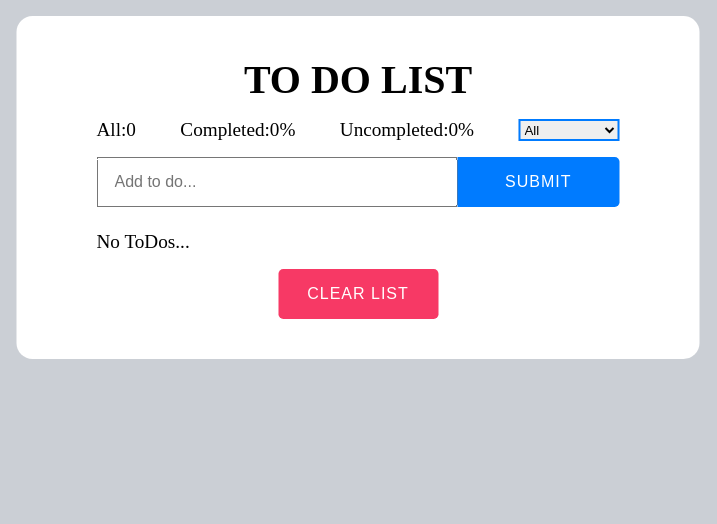
Test case: to-do list › adds to-dos
In the field with placeholder "Add to do...": (277, 182) [96,157,457,207], type "to-do item 1"
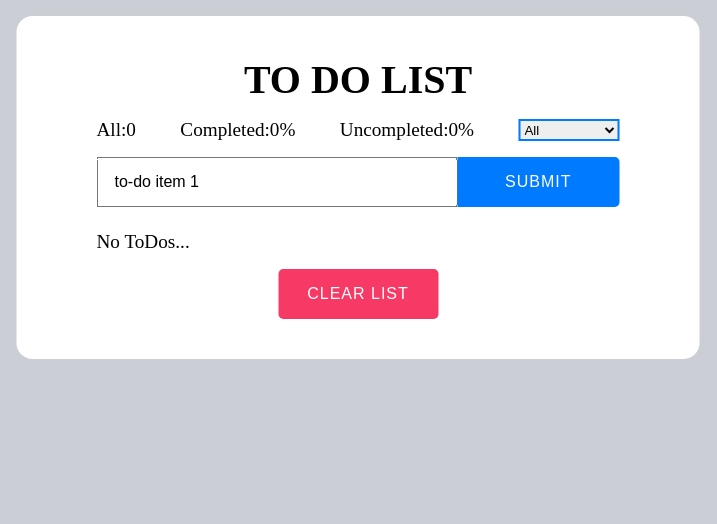
Click the button "submit": (538, 182) [457,157,620,207]
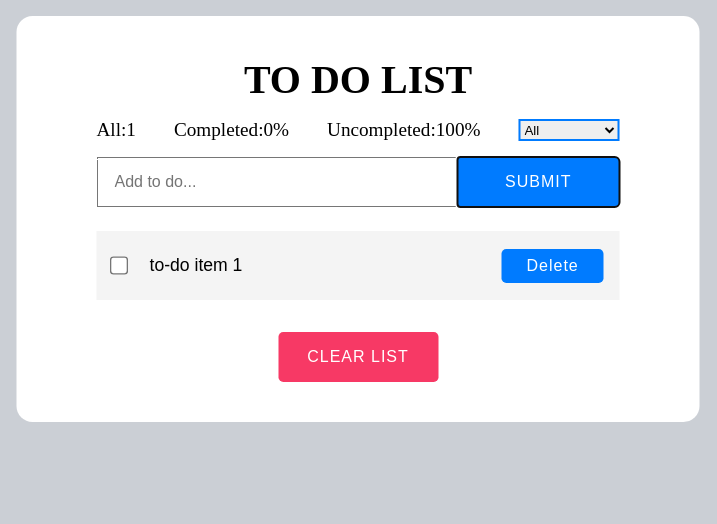
Expected: the field with placeholder "Add to do..." is empty
In the field with placeholder "Add to do...": (277, 182) [96,157,457,207], type "to-do item 2"
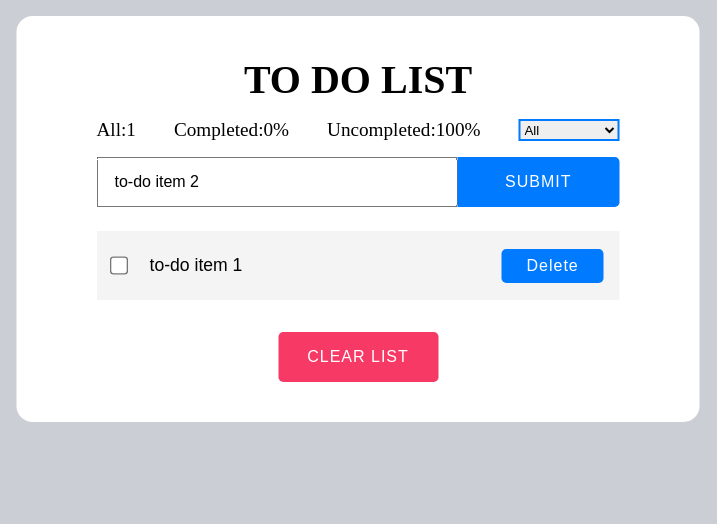
Click the button "submit": (538, 182) [457,157,620,207]
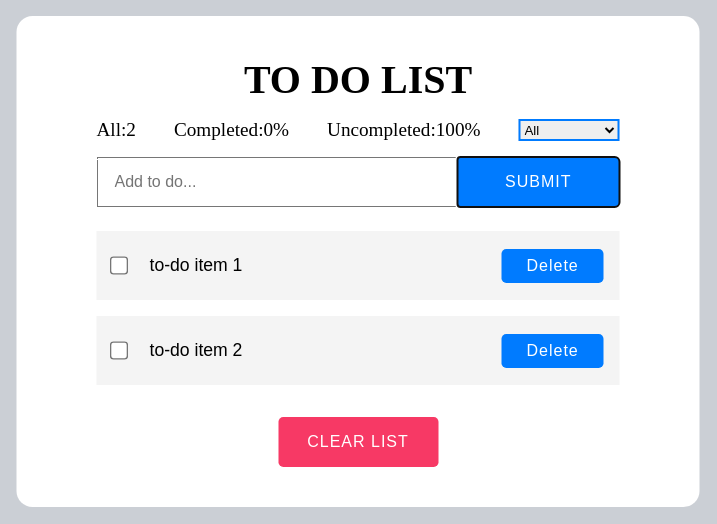
Expected: the field with placeholder "Add to do..." is empty, [96,157,457,207]
Expected: the number of list items is 2, [96,231,620,300]; [96,316,620,385]
